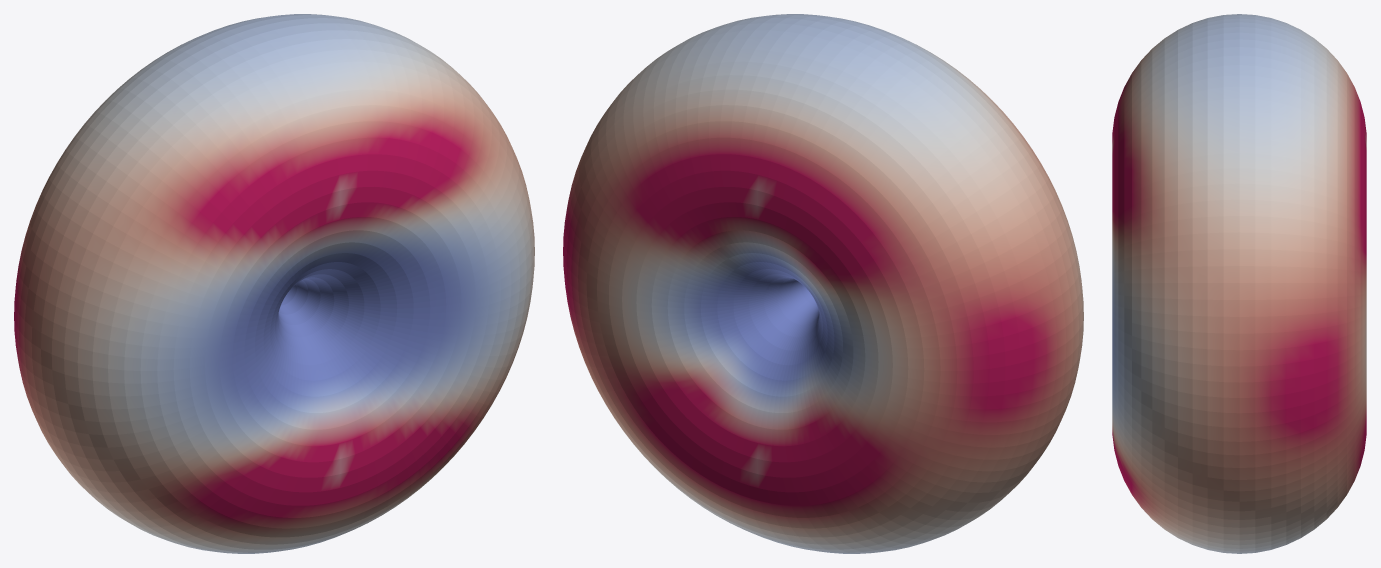
3 renders of one model, left to right at view 1: azimuth 30°, elevation 25°; view 2: azimuth 150°, elevation 25°; view 3: azimuth 270°, elevation 25°, orthographic. The views are drawn at different scales.
Visible parts, largest first — view 1: world; view 2: world; view 3: world.
Boxes of the visible parts, bbox=[...] form: world: bbox=[14, 14, 534, 553]; world: bbox=[563, 14, 1083, 553]; world: bbox=[1112, 14, 1366, 553].
Size of the model in its own units: 18.93 by 18.93 by 8.92.
